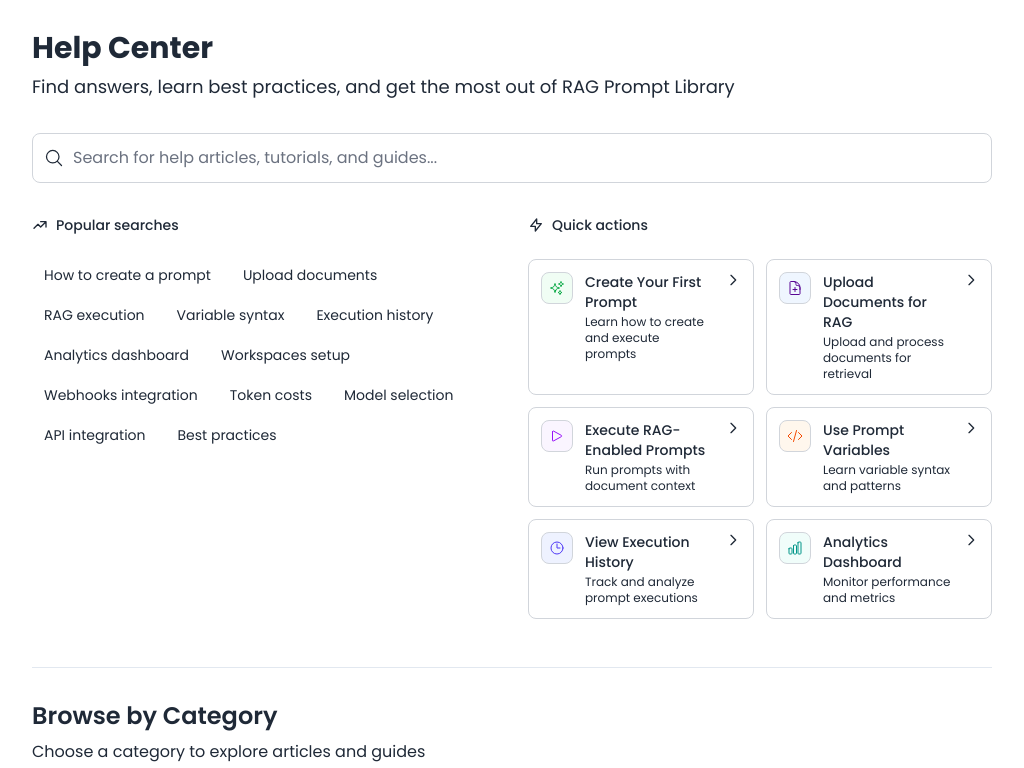
Test case: HelpCenterV2 › applies search when a popular search is clicked
Click the button "How to create a prompt": (127,275) [32,259,223,291]
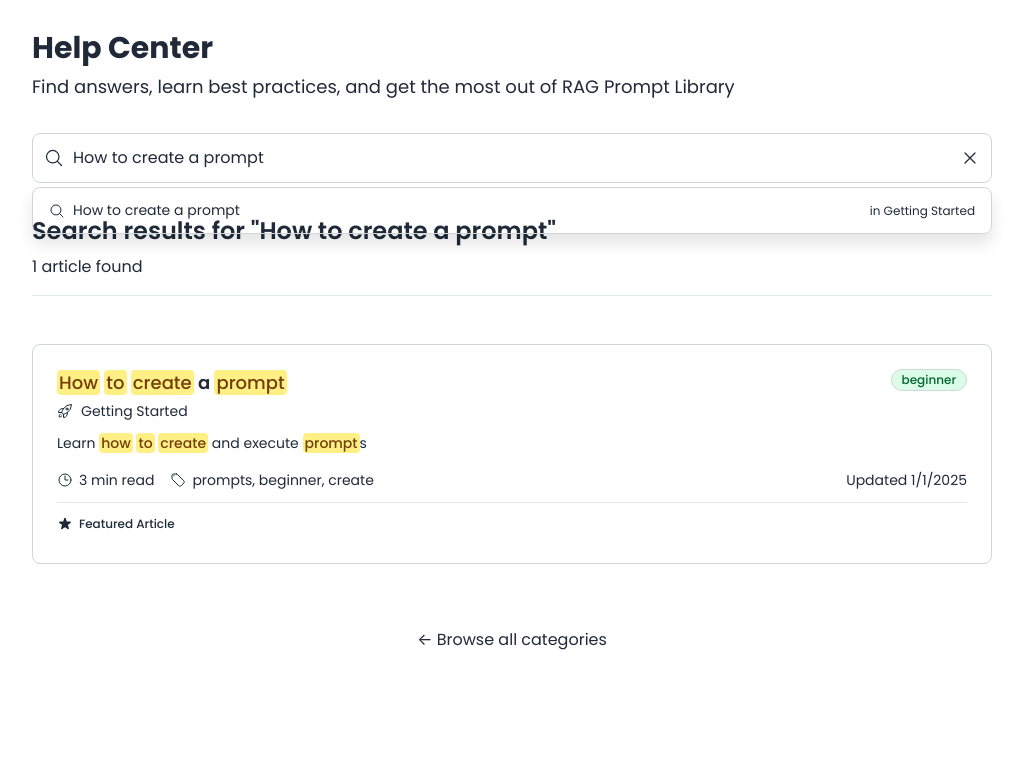
Now the text "How to create a prompt" is shown, box [73,200,240,220]
